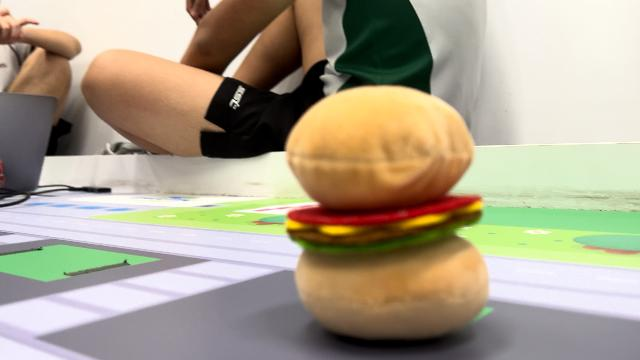burger: (278, 81, 496, 341)
